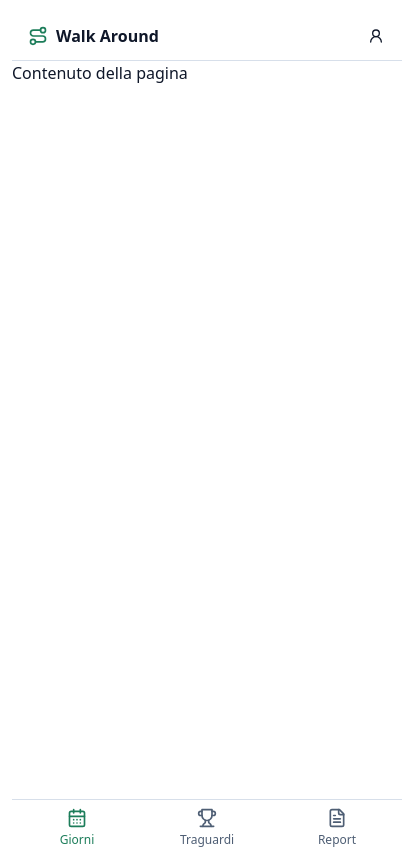
Test case: AppLayout › il menu utente offre il cambio tema e l’uscita
Click the button named "Account e impostazioni" at [376, 36], box [354,14,398,58]
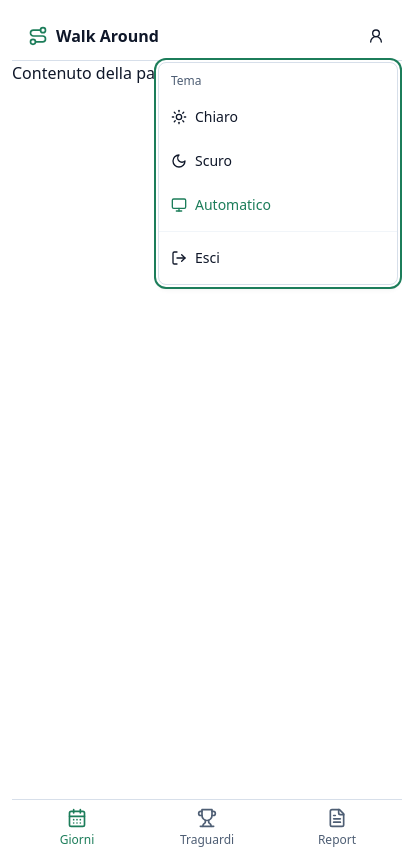
Check: the menu item "Chiaro" is shown, box [171,107,238,126]
Check: the menu item "Scuro" is shown, box [171,151,232,170]
Check: the menu item "Automatico" is shown, box [171,195,271,214]
